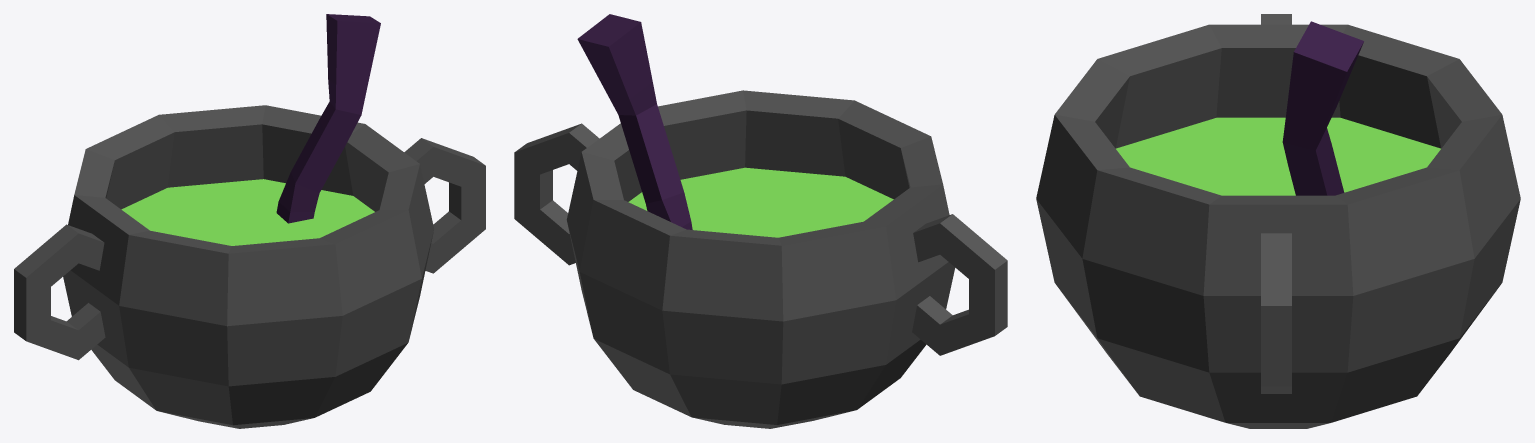
File: Halloween_Cauldron.fbx
3 views of the same model, side by side, from view 1: azimuth 30°, elevation 25°; view 2: azimuth 150°, elevation 25°; view 3: azimuth 270°, elevation 25° (orthographic). The views are drawn at different scales.
Visible parts, largest first — view 1: Cauldron; view 2: Cauldron; view 3: Cauldron.
Boxes of the visible parts, left/top/right/bottom form: Cauldron: left=14, top=14, right=485, bottom=428; Cauldron: left=514, top=14, right=1007, bottom=428; Cauldron: left=1036, top=14, right=1520, bottom=428.
Size of the model in its own units: 481 by 342 by 346.
